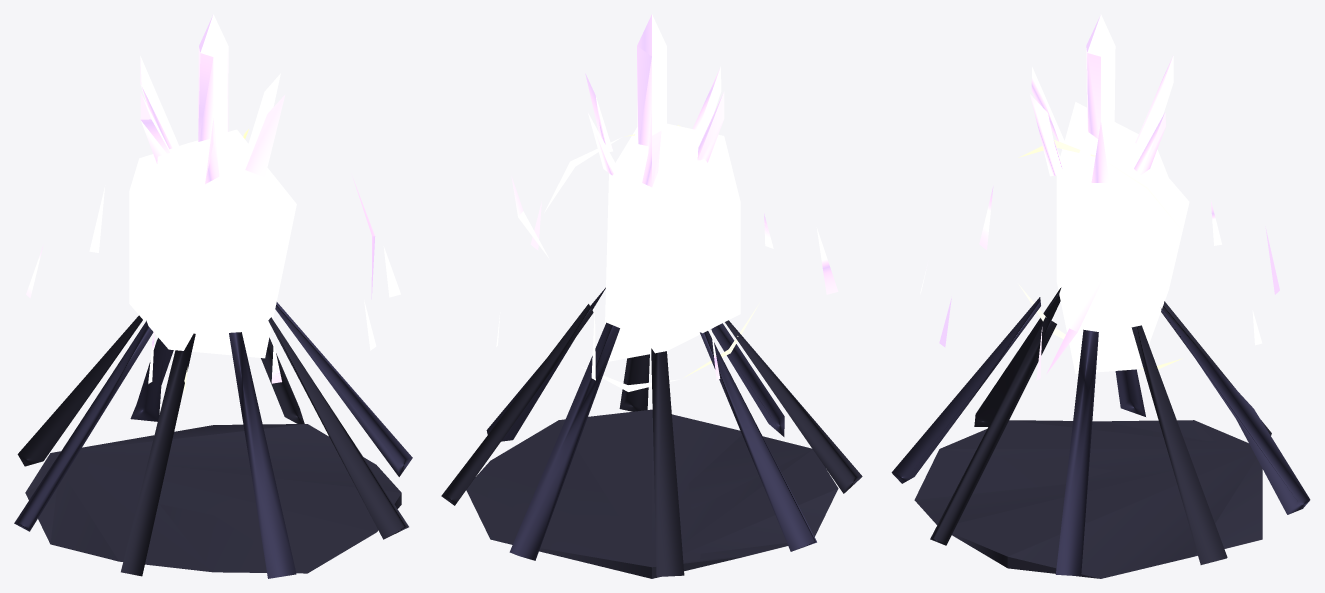
File: lumen_heart_lod2.glb
3 views of the same model, side by side, from view 1: azimuth 30°, elevation 25°; view 2: azimuth 150°, elevation 25°; view 3: azimuth 270°, elevation 25° (orthographic).
Parts seen in each view (by area): view 1: enemy.lumen_heart; view 2: enemy.lumen_heart; view 3: enemy.lumen_heart.
Part boxes in pixels (bbox=[...]): enemy.lumen_heart: bbox=[14, 14, 412, 578]; enemy.lumen_heart: bbox=[441, 14, 862, 578]; enemy.lumen_heart: bbox=[891, 14, 1310, 578].
Size of the model in its own units: 3.47 by 4.45 by 3.47.
